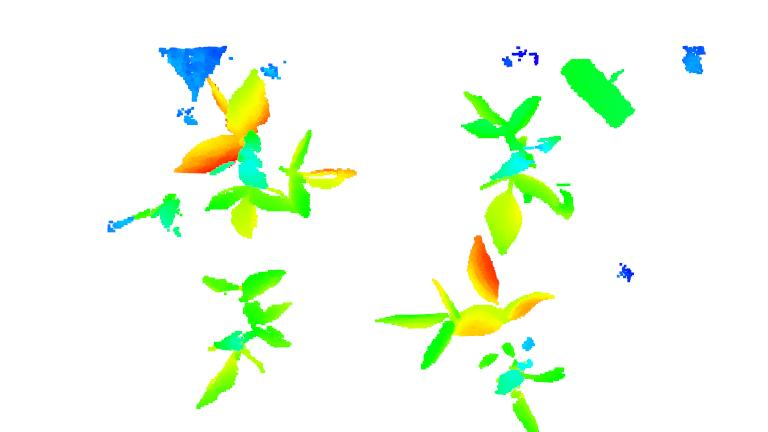mungbean: (373, 244, 568, 432), (176, 68, 362, 239), (456, 86, 593, 253), (181, 261, 301, 409)
